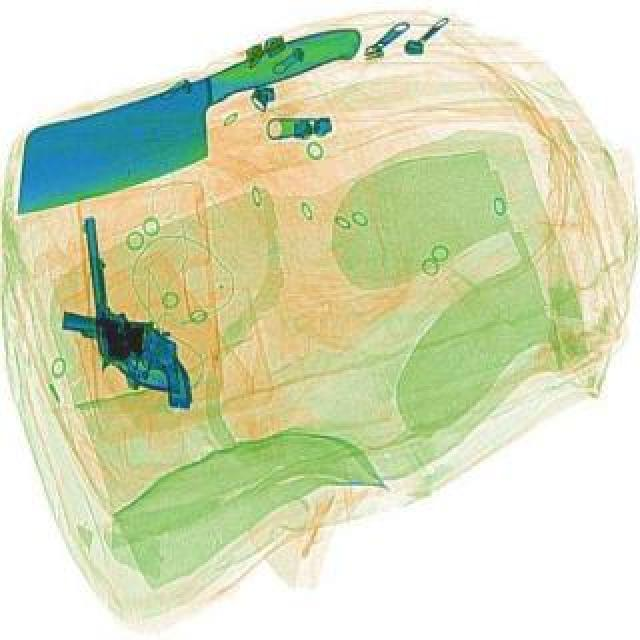gun: (76, 210, 188, 404), (48, 312, 204, 416)
knife: (0, 26, 388, 218)
